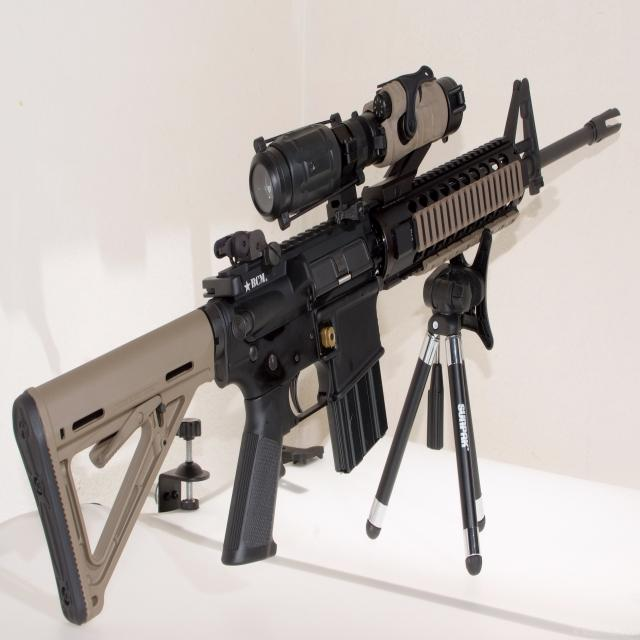Rifle: (11, 67, 622, 628)
